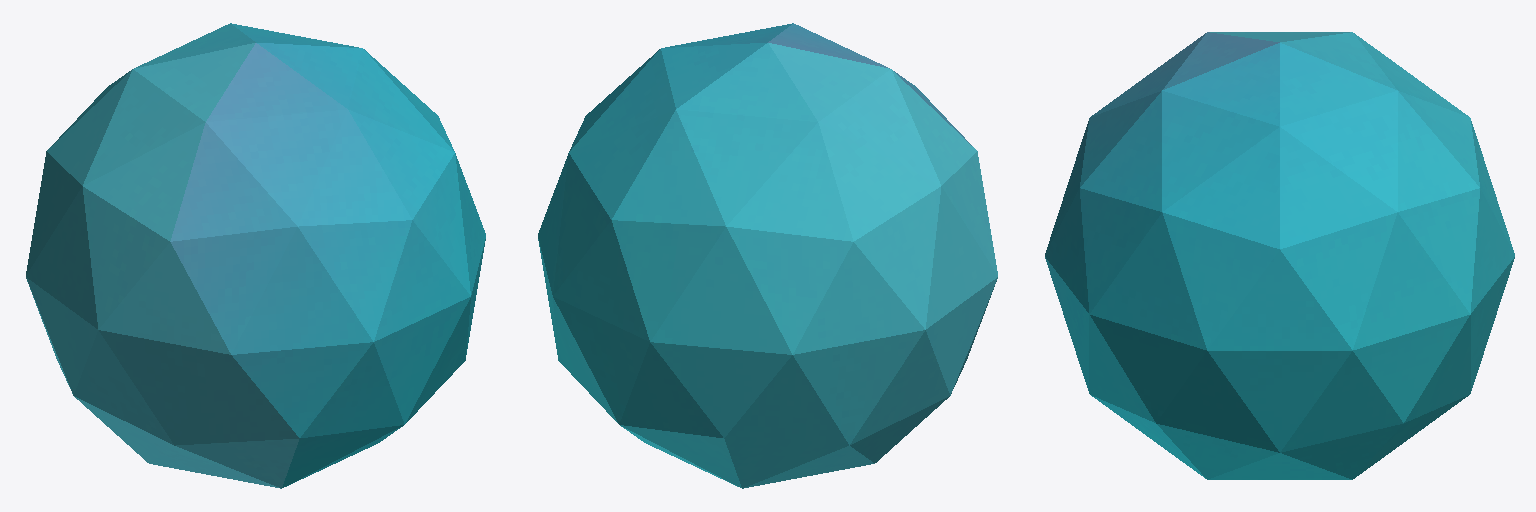
The picture shows the model from 3 angles: view 1: azimuth 30°, elevation 25°; view 2: azimuth 150°, elevation 25°; view 3: azimuth 270°, elevation 25°; orthographic projection.
Parts seen in each view (by area): view 1: Icosphere; view 2: Icosphere; view 3: Icosphere.
Boxes of the visible parts, box(x1,y1,x2,y2) form: Icosphere: box(26, 23, 485, 488); Icosphere: box(538, 23, 997, 488); Icosphere: box(1045, 32, 1514, 479).
Bounding box in the file's own units: 190 × 200 × 200.
1 materials, 1 textured.